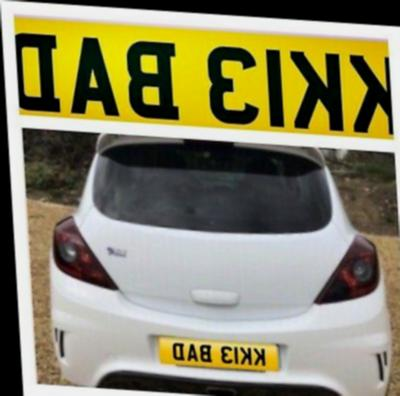License_Plate: (154, 330, 285, 377)
